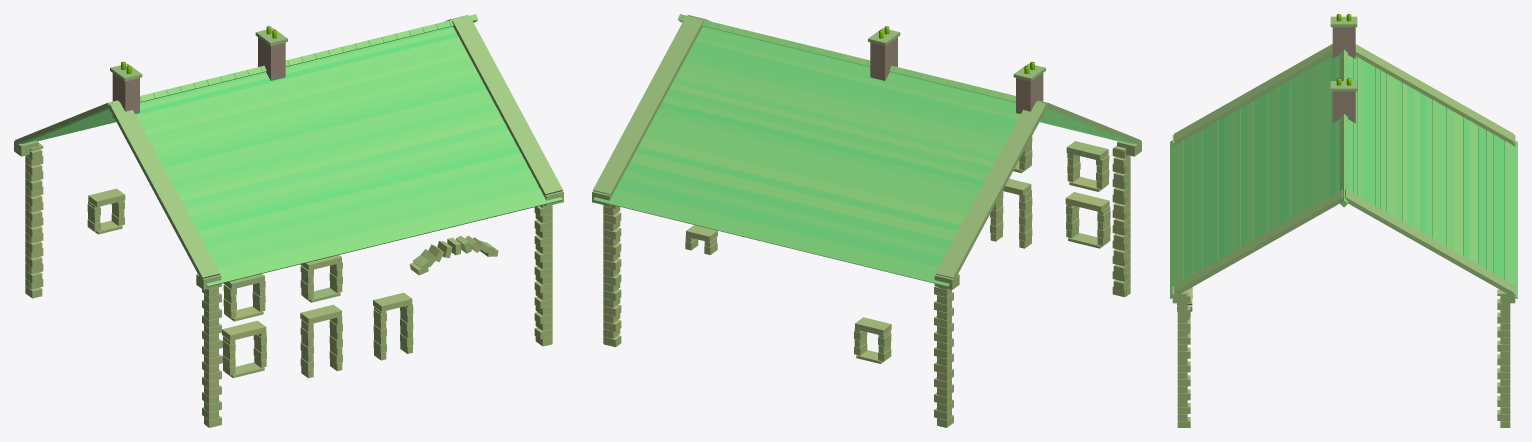
The model's file is SM_Bld_037_Stone.glb.
3 views of the same model, side by side, from view 1: azimuth 30°, elevation 25°; view 2: azimuth 150°, elevation 25°; view 3: azimuth 270°, elevation 25° (orthographic). The views are drawn at different scales.
Parts seen in each view (by area): view 1: SM_Bld_037_Stone; view 2: SM_Bld_037_Stone; view 3: SM_Bld_037_Stone.
Boxes of the visible parts, x1=… form: SM_Bld_037_Stone: x1=14, y1=14, x2=563, y2=427; SM_Bld_037_Stone: x1=592, y1=14, x2=1141, y2=427; SM_Bld_037_Stone: x1=1170, y1=14, x2=1517, y2=427.
Bounding box in the file's own units: 15 × 11.46 × 13.61.
